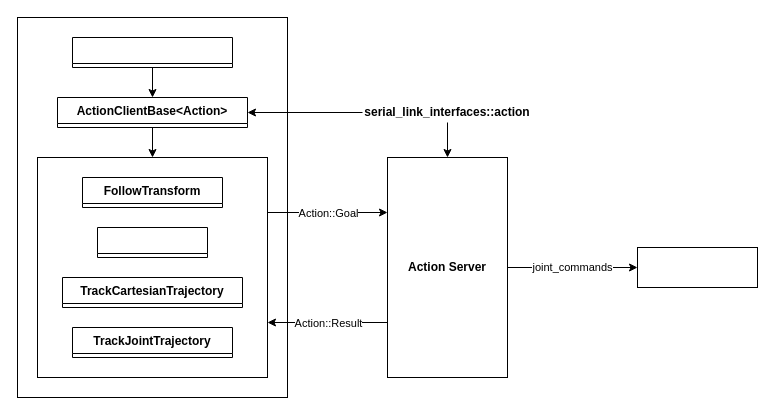
This 775x415 diagram has some shape labels left out. The shapes that lost their labels are listed below. From the top down, each one's centre as x and y in pixels, then its label:
At (x=152, y=52): "ActionClientInterface".
At (x=152, y=242): "FollowTwist".
At (x=697, y=267): "robot".
